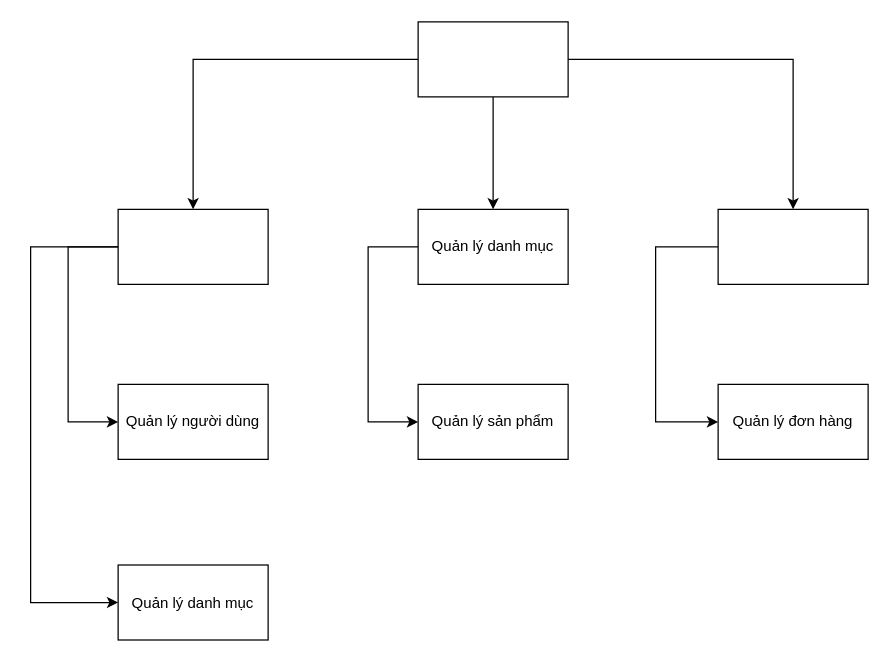
Some shapes in this 890 by 663 pixel diagram are drawn without their labels. Here are the shapes that lost their labels. From the top down, the centre of each, then its label:
At point (492, 59): "Chương trình".
At point (192, 246): "Quản lý hệ thống".
At point (792, 246): "Quản lý nghiệp vụ".
